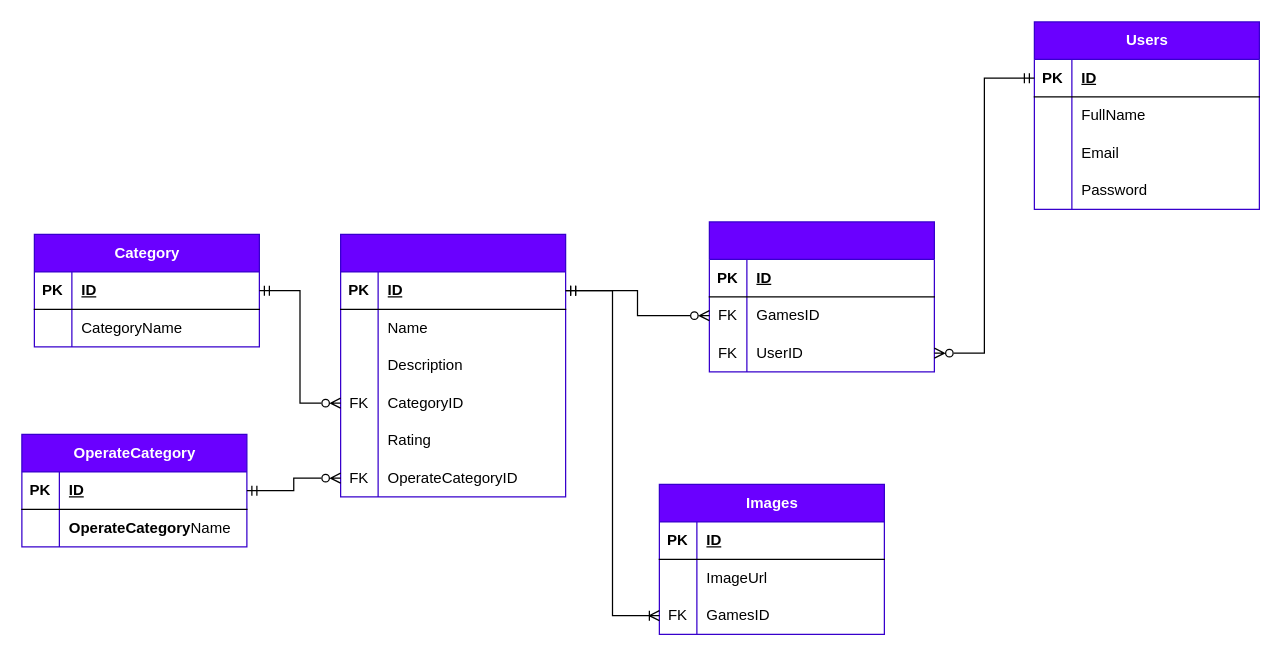
This 1281x656 diagram has some shape labels left out. The shapes that lost their labels are listed below. From the top down, each one's box as (x1, y1, x2, y2) in pixels, then its label:
(708, 221, 934, 372): FavoritGames
(339, 233, 566, 497): Games
